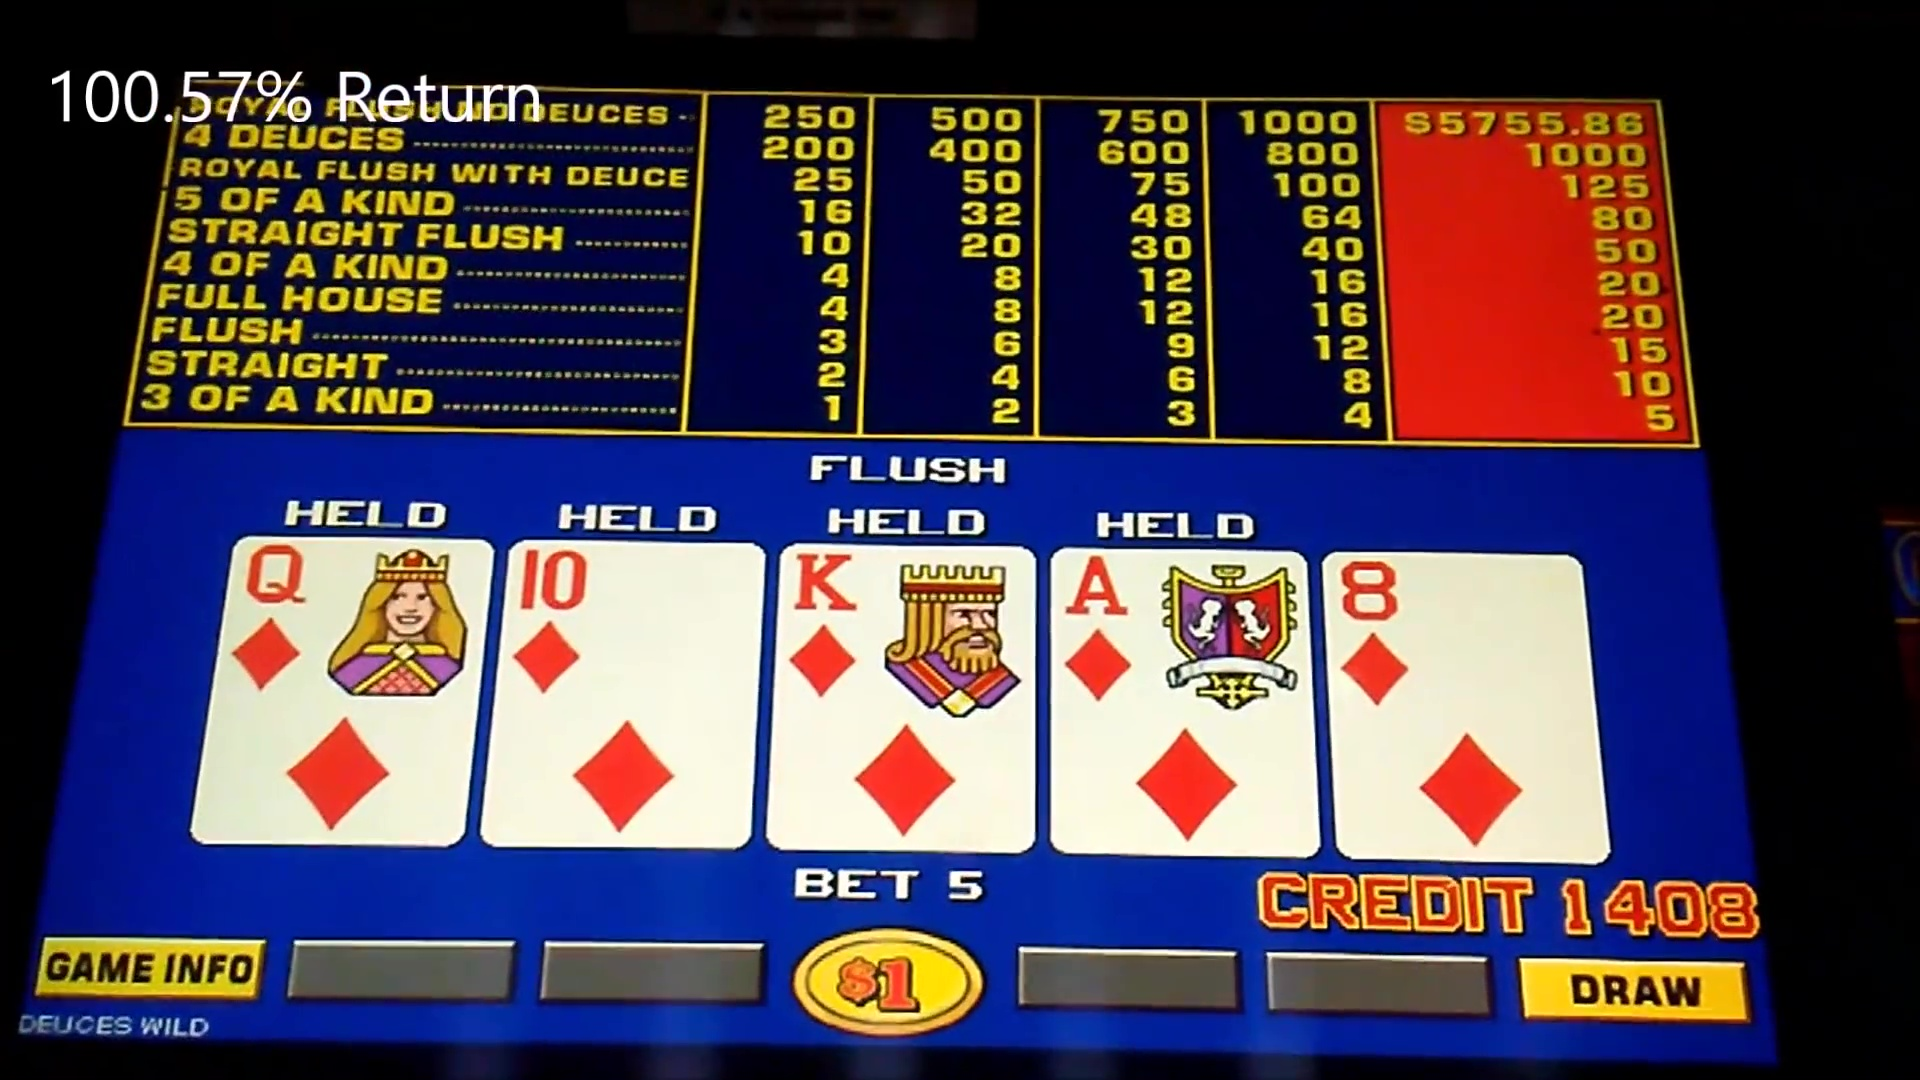D8: (1335, 554, 1593, 723)
DA: (1051, 546, 1319, 717)
DK: (778, 541, 1039, 712)
DQ: (225, 535, 477, 705)
DT: (502, 542, 760, 708)
